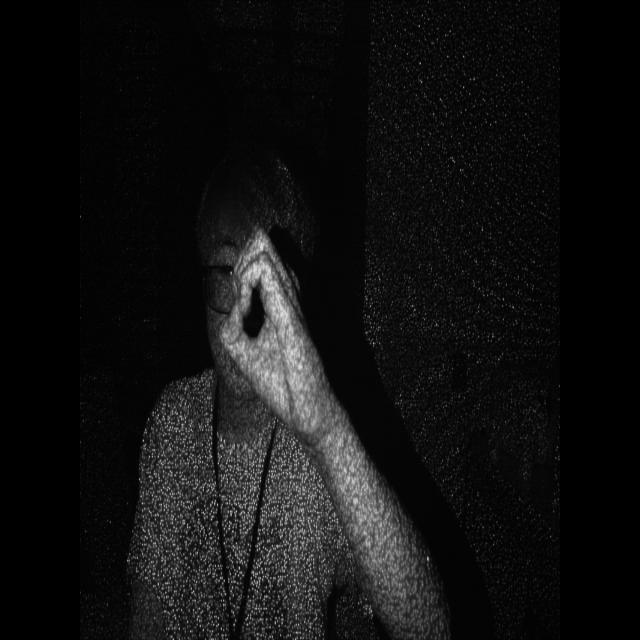O: (214, 215, 308, 412)
